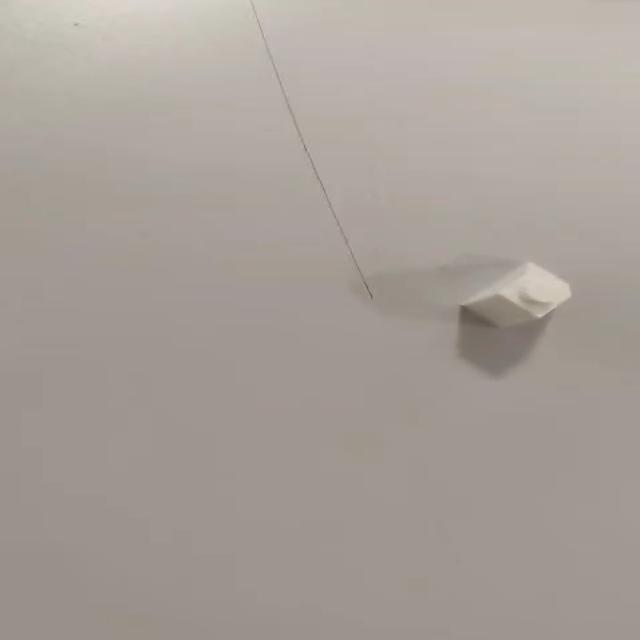P1x2x1: (455, 261, 574, 331)
